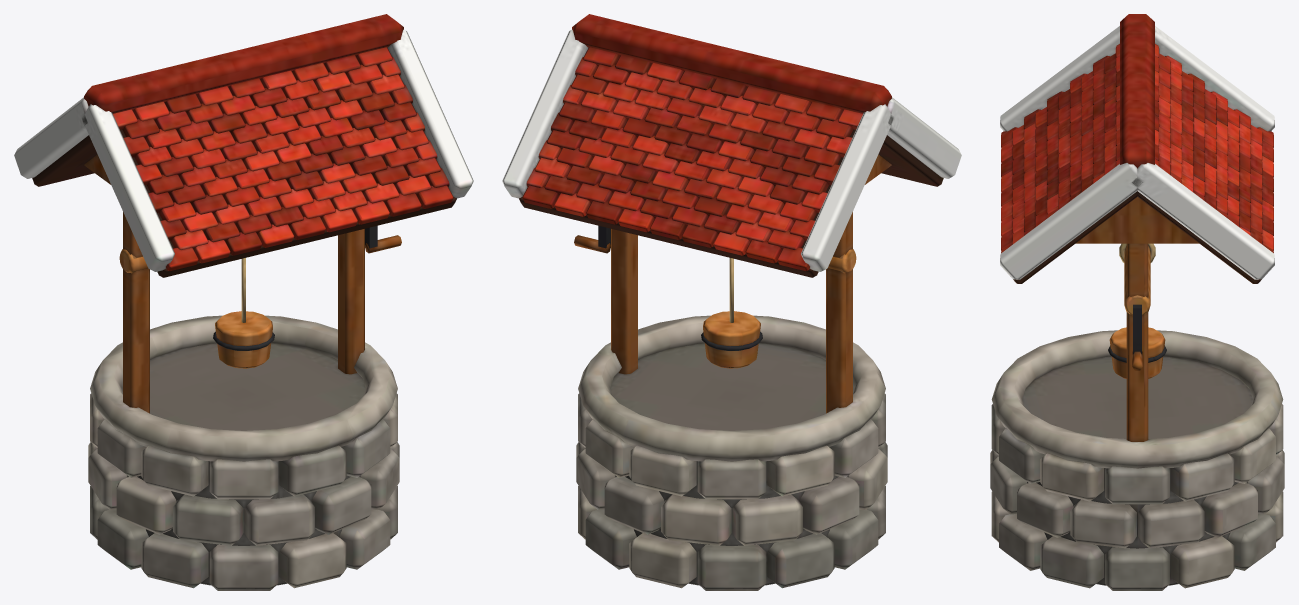
The model's file is well.glb.
3 views of the same model, side by side, from view 1: azimuth 30°, elevation 25°; view 2: azimuth 150°, elevation 25°; view 3: azimuth 270°, elevation 25° (orthographic). The views are drawn at different scales.
Parts seen in each view (by area): view 1: well; view 2: well; view 3: well.
Part boxes in pixels (x1,y1,x2,y2): well: (14,14,473,590); well: (502,14,961,590); well: (990,14,1284,590).
Bounding box in the file's own units: 0.8 × 1.15 × 0.6767.
1 material, 1 textured.
